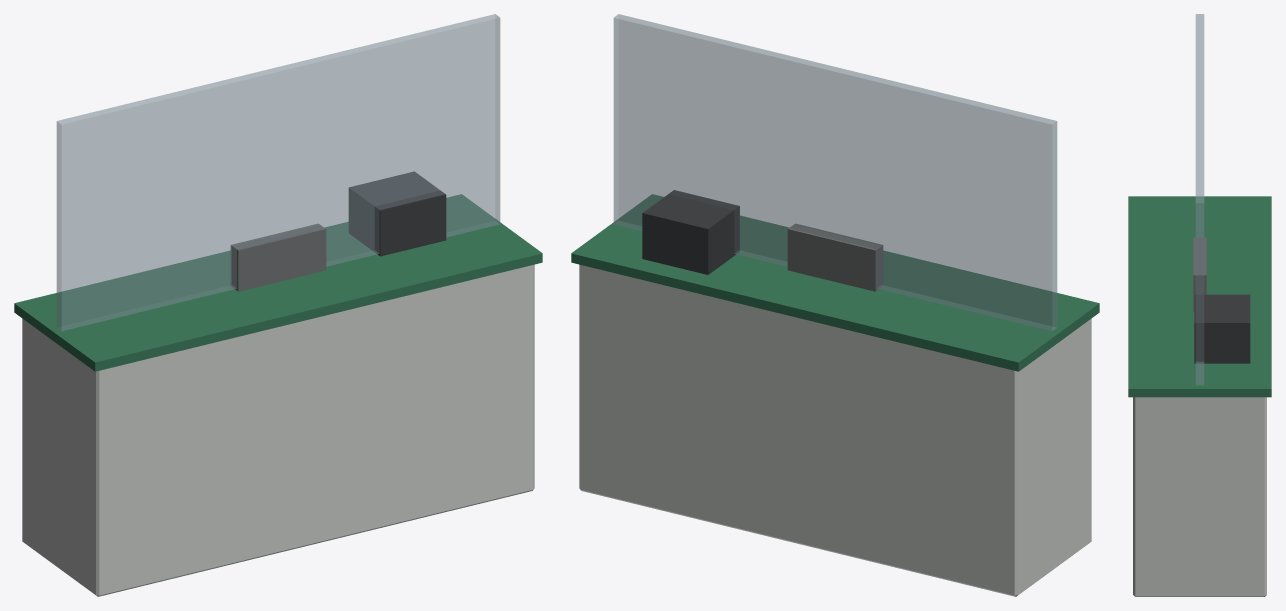
The model's file is pharm_counter.glb.
The picture shows the model from 3 angles, left to right: view 1: azimuth 30°, elevation 25°; view 2: azimuth 150°, elevation 25°; view 3: azimuth 270°, elevation 25°; orthographic projection. The views are drawn at different scales.
Visible parts, largest first — view 1: PharmCounter; view 2: PharmCounter; view 3: PharmCounter.
Boxes of the visible parts, x1,y1,x2,y2 form: PharmCounter: [14, 14, 542, 596]; PharmCounter: [571, 14, 1099, 596]; PharmCounter: [1128, 14, 1271, 596].
Size of the model in its own units: 2.04 by 1.95 by 0.64.
